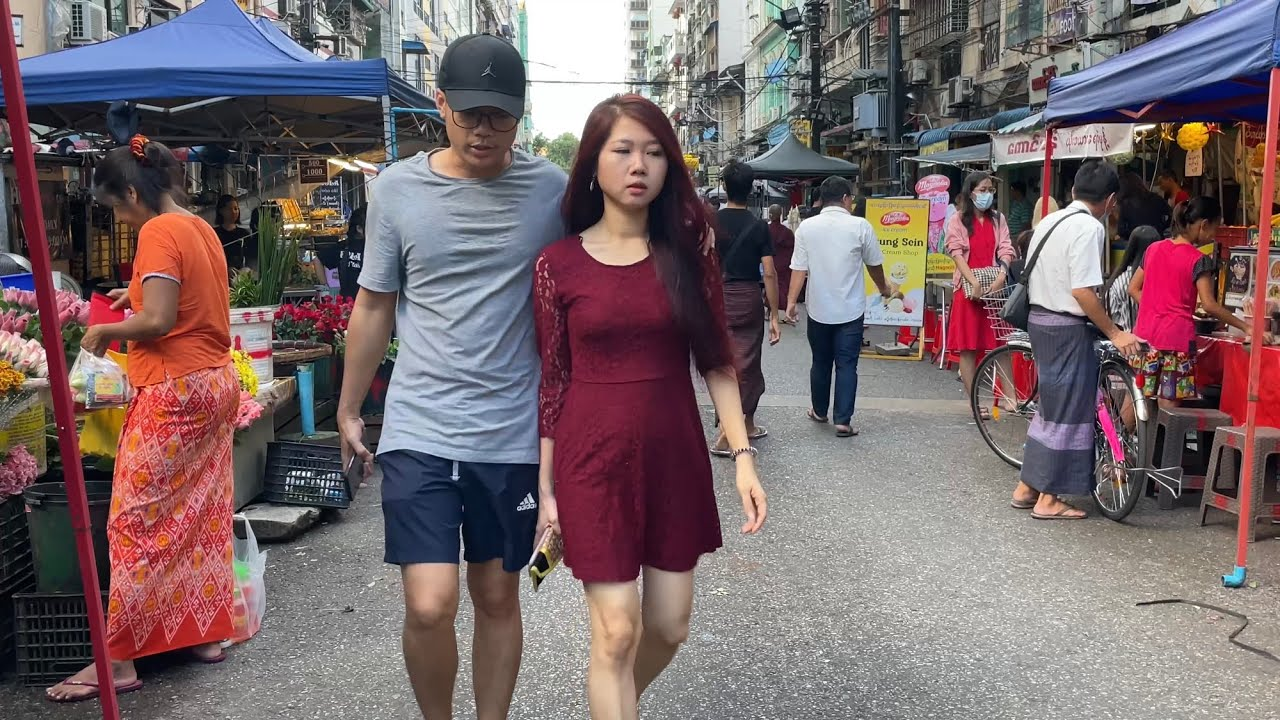person: (329, 30, 586, 720), (532, 83, 765, 720), (38, 126, 253, 706), (999, 155, 1131, 534), (1124, 190, 1240, 494), (781, 166, 896, 444), (942, 162, 1029, 433), (707, 154, 774, 462)
